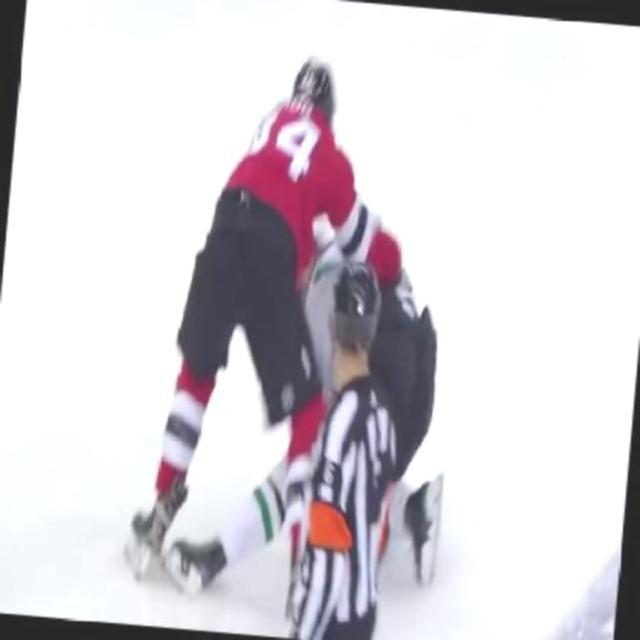fight: (160, 31, 468, 520)
